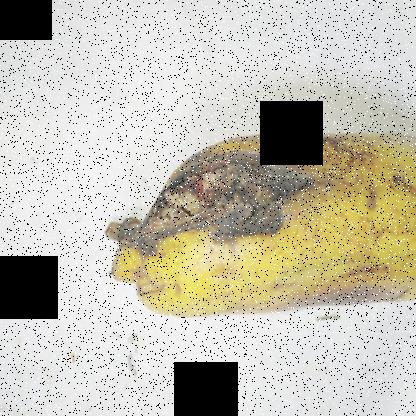ripe: (115, 102, 415, 337)
rotten: (132, 136, 307, 260), (278, 257, 415, 337)
